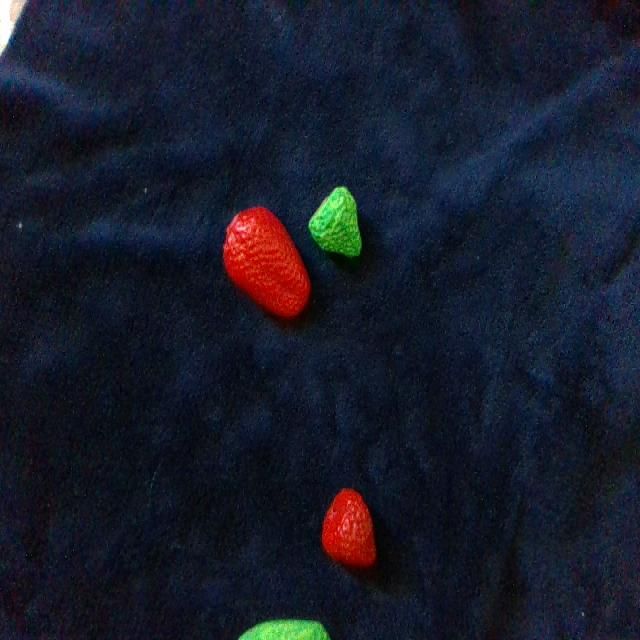chica_roja: (322, 492, 376, 567)
grande_roja: (224, 207, 309, 316)
verde: (309, 187, 360, 256), (238, 619, 330, 639)
